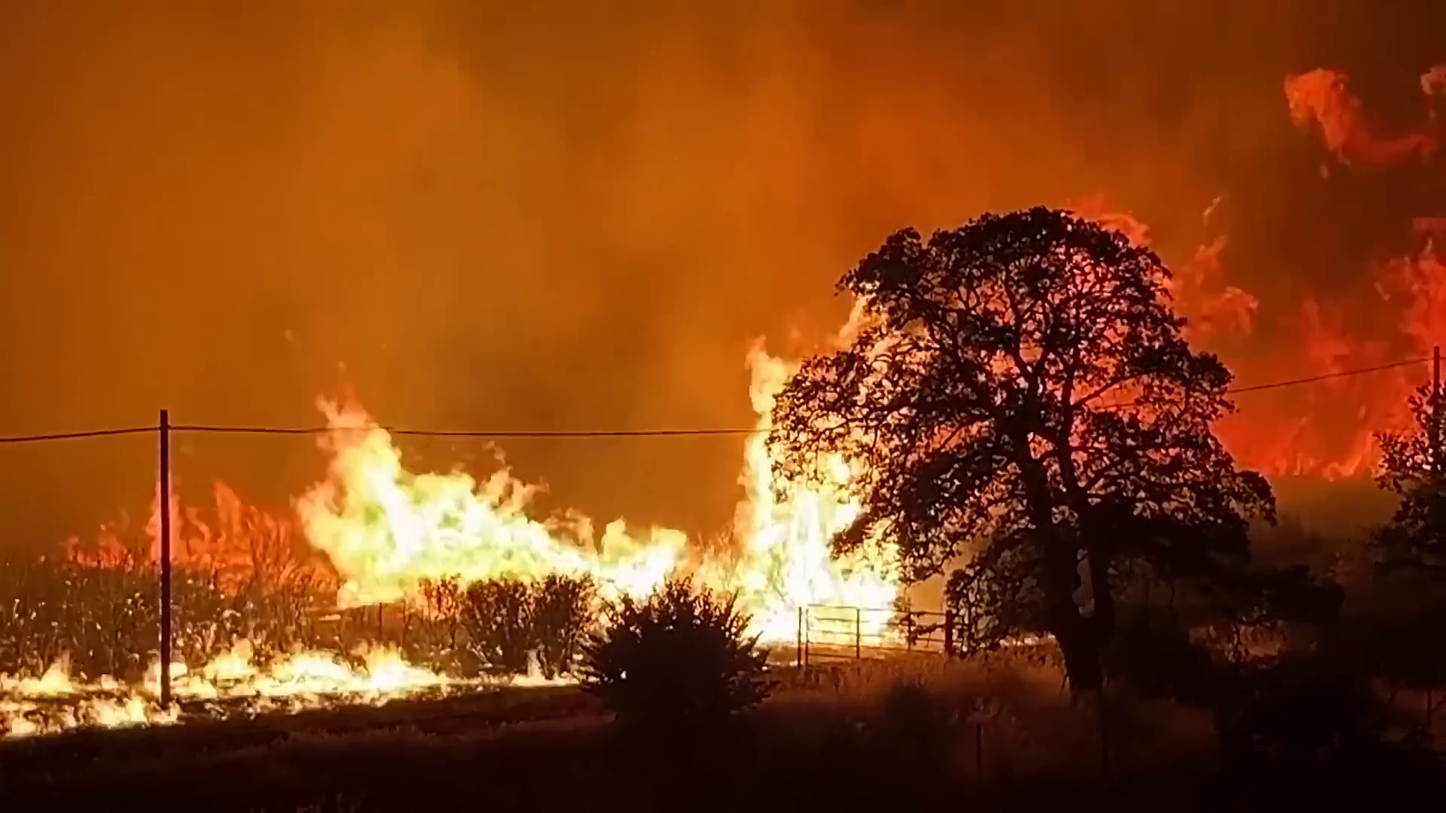forest_fire: (169, 346, 903, 642), (1170, 217, 1445, 477), (171, 636, 474, 706), (1284, 69, 1445, 172), (0, 662, 175, 734), (71, 518, 155, 570), (1078, 204, 1149, 242), (865, 614, 895, 638), (523, 675, 554, 681), (1326, 172, 1328, 174)
